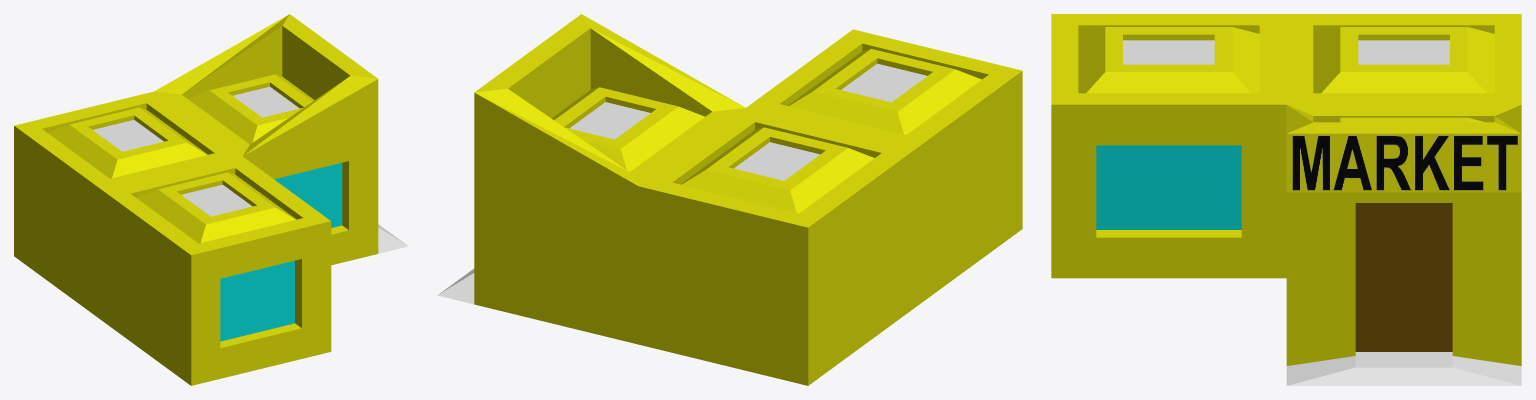
Rendered from market.fbx.
3 renders of one model, left to right at view 1: azimuth 30°, elevation 25°; view 2: azimuth 150°, elevation 25°; view 3: azimuth 270°, elevation 25°, orthographic. The views are drawn at different scales.
Parts seen in each view (by area): view 1: market; view 2: market; view 3: market.
Part boxes in pixels (bbox=[...]): market: bbox=[14, 14, 408, 385]; market: bbox=[437, 14, 1022, 385]; market: bbox=[1051, 14, 1521, 385].
Bounding box in the file's own units: 5.23 × 2.86 × 5.24.
5 materials, 1 textured.
